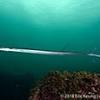Fistularia commersonii: (1, 43, 100, 68)
